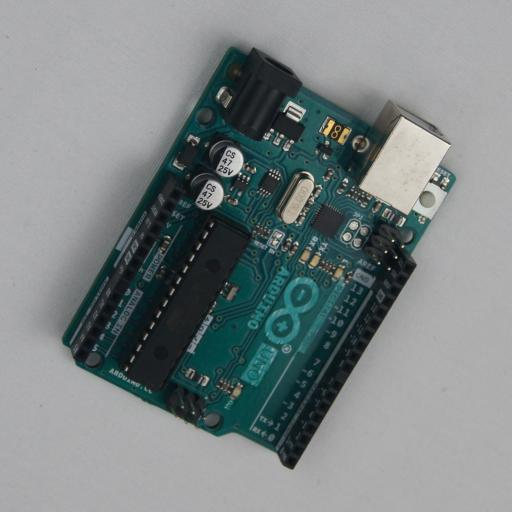Arduino Uno -Green-: (62, 44, 456, 469)
